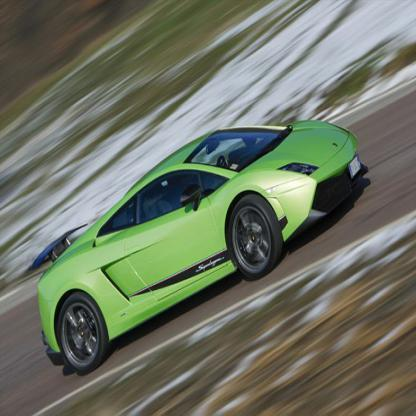Vehicle: (31, 119, 371, 377)
